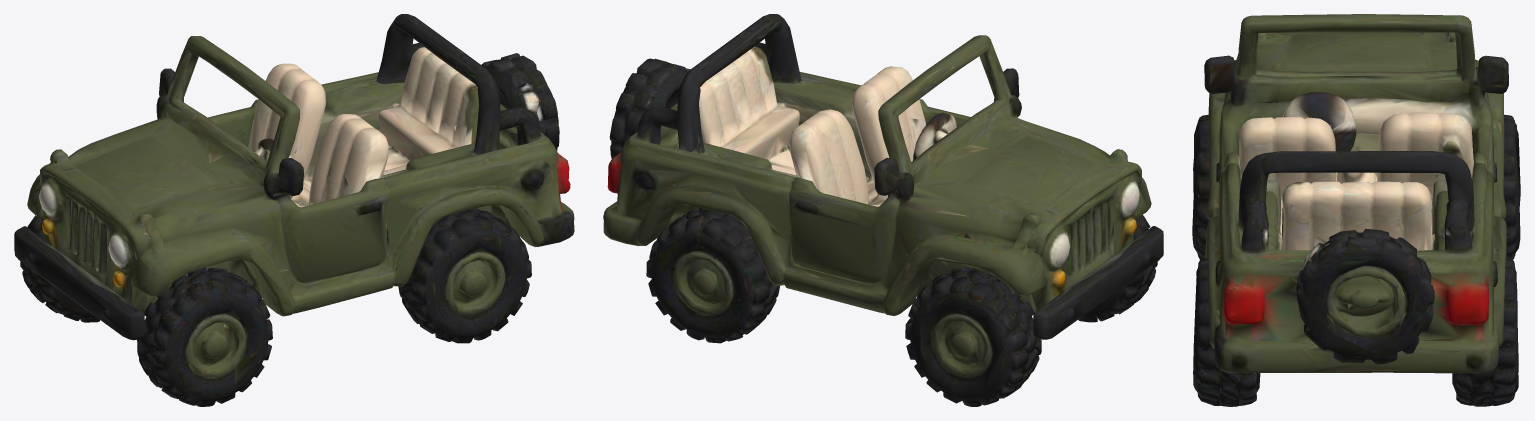
3 renders of one model, left to right at view 1: azimuth 30°, elevation 25°; view 2: azimuth 150°, elevation 25°; view 3: azimuth 270°, elevation 25°, orthographic. The views are drawn at different scales.
Size of the model in its own units: 1.9 by 1.02 by 1.03.
Materials: 1 (1 with a texture image).
